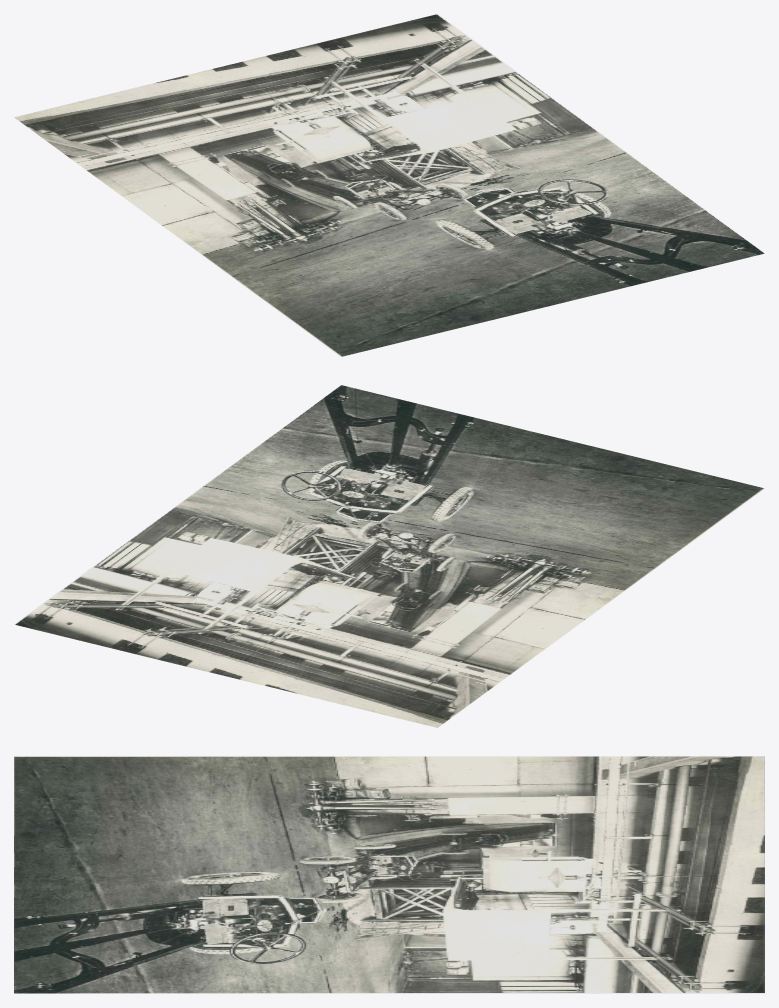
Rendered from chassis.obj.
The picture shows the model from 3 angles, top to bottom: view 1: azimuth 30°, elevation 25°; view 2: azimuth 150°, elevation 25°; view 3: azimuth 270°, elevation 25°; orthographic projection. The views are drawn at different scales.
Parts seen in each view (by area): view 1: Plane001; view 2: Plane001; view 3: Plane001.
Boxes of the visible parts, x1,y1,x2,y2 form: Plane001: [14, 14, 764, 356]; Plane001: [14, 385, 764, 727]; Plane001: [14, 756, 764, 993].
Bounding box in the file's own units: 241 × 0 × 323.
